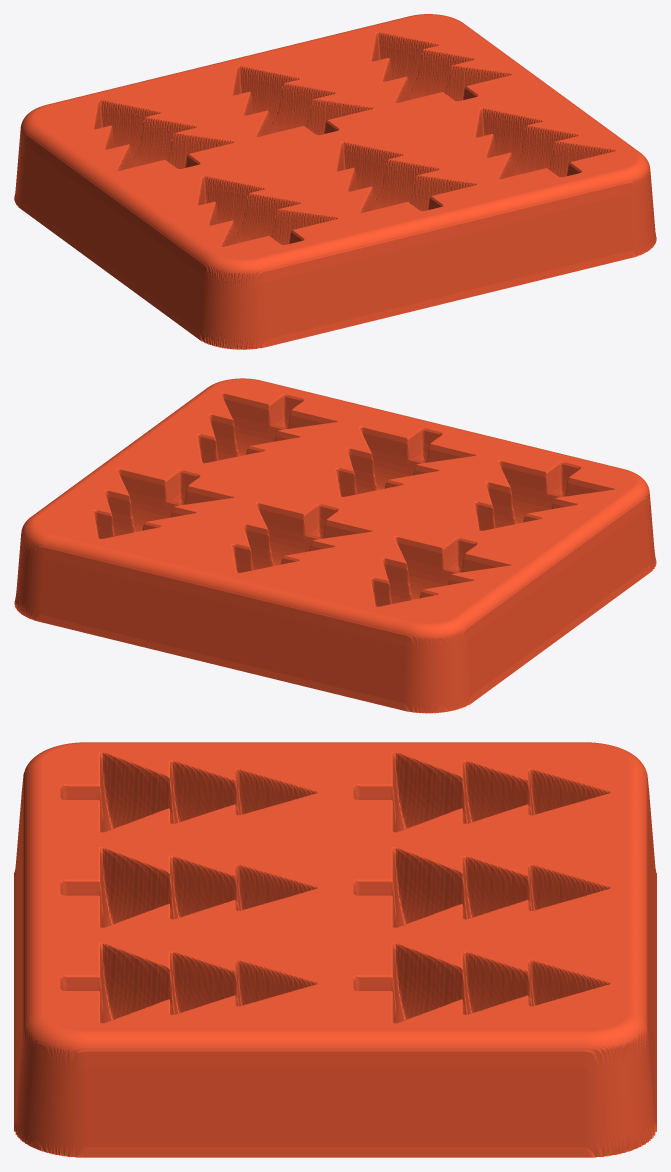
File: mold.glb
3 renders of one model, top to bottom at view 1: azimuth 30°, elevation 25°; view 2: azimuth 150°, elevation 25°; view 3: azimuth 270°, elevation 25°, orthographic. The views are drawn at different scales.
Parts seen in each view (by area): view 1: geometry_0; view 2: geometry_0; view 3: geometry_0.
Boxes of the visible parts, x1,y1,x2,y2 form: geometry_0: (14, 14, 656, 349); geometry_0: (14, 378, 656, 713); geometry_0: (14, 742, 656, 1157).
Bounding box in the file's own units: 0.0924 × 0.0159 × 0.0808.
